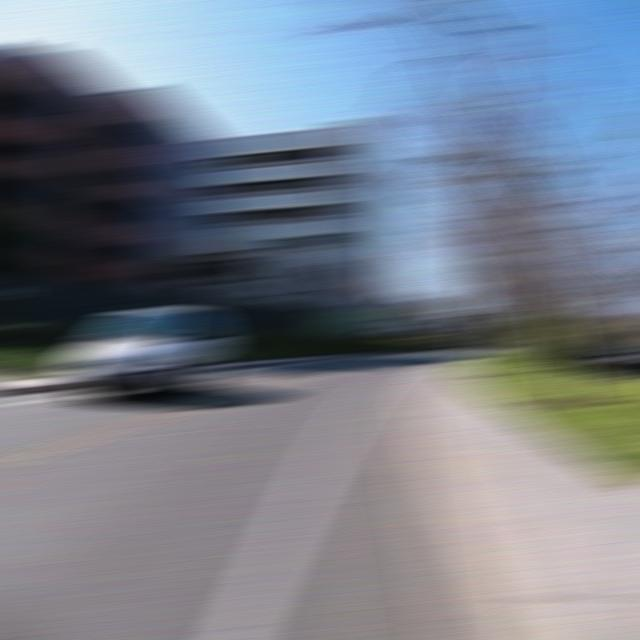speedLimit35: (457, 305, 494, 328)
